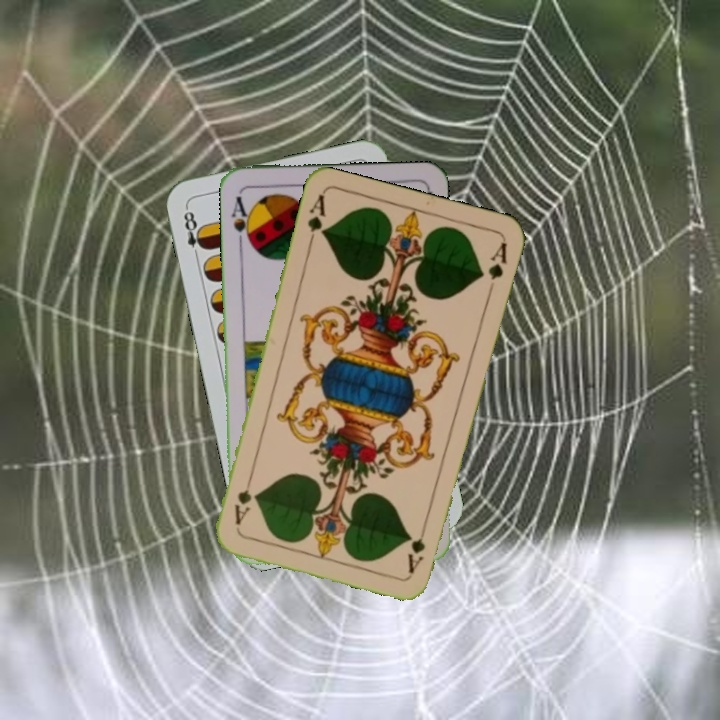E8: (179, 203, 209, 262)
GA: (303, 191, 329, 249), (404, 518, 430, 576)
SA: (227, 192, 255, 249)
